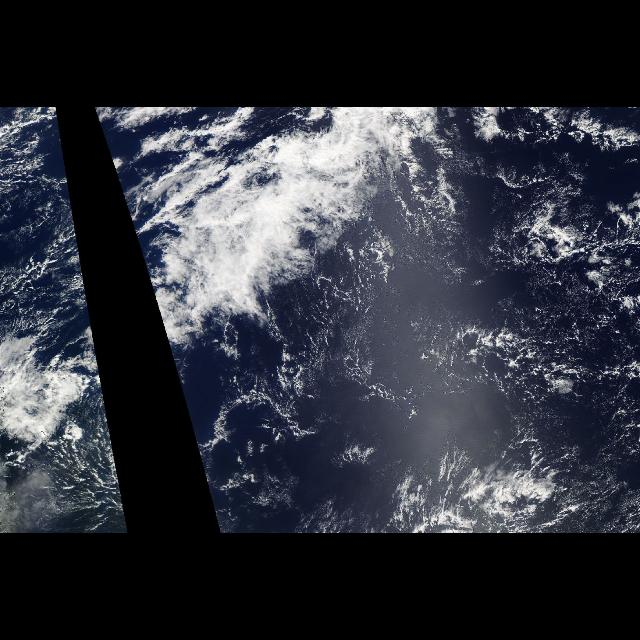Fish: (197, 376, 321, 446)
Gravel: (307, 234, 637, 532)
